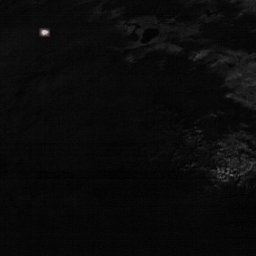Target: (39, 28, 49, 36)
